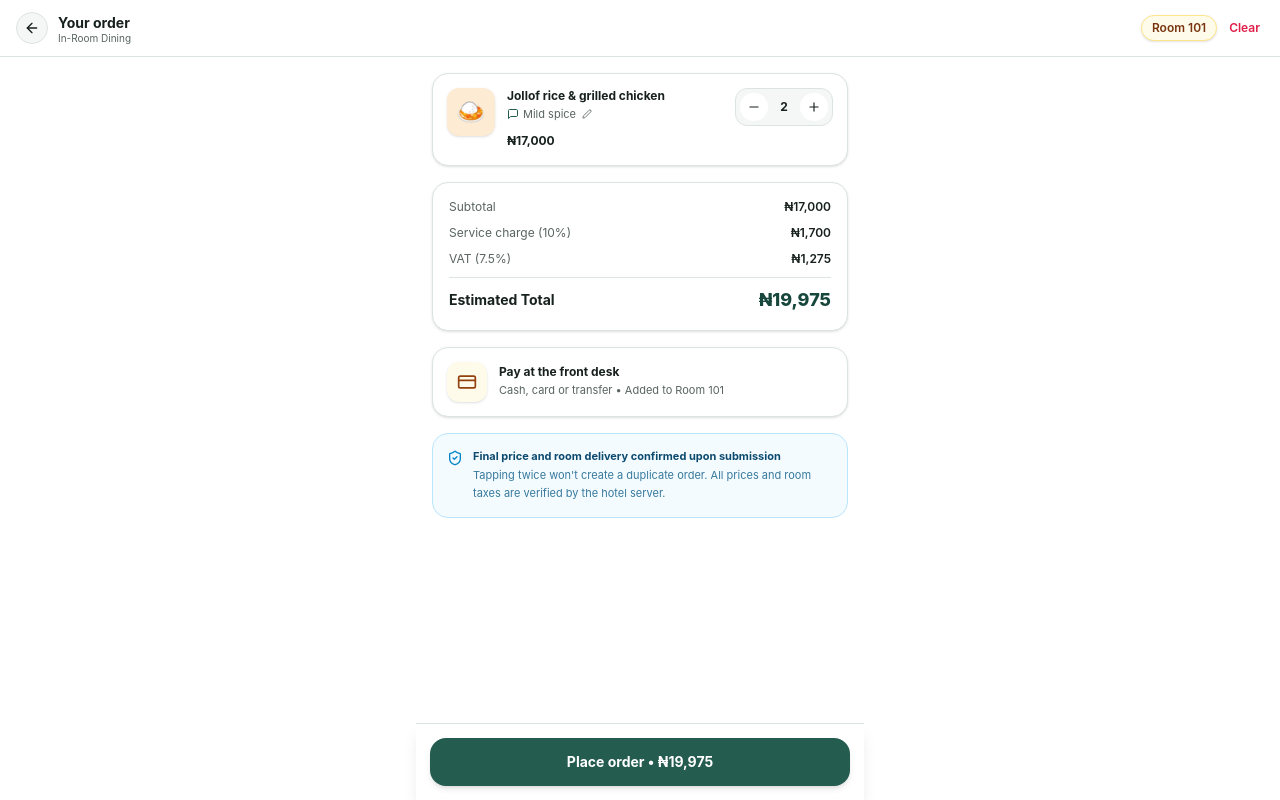
Test case: CartPage Component Suite › retains cart line items intact and displays user-friendly error toast when order placement fails
What coordinates should you click on to do the following:
click the button with test id "place-order-checkout-button"
I would click on:
 (640, 762)
Its box is [430,738,850,786].
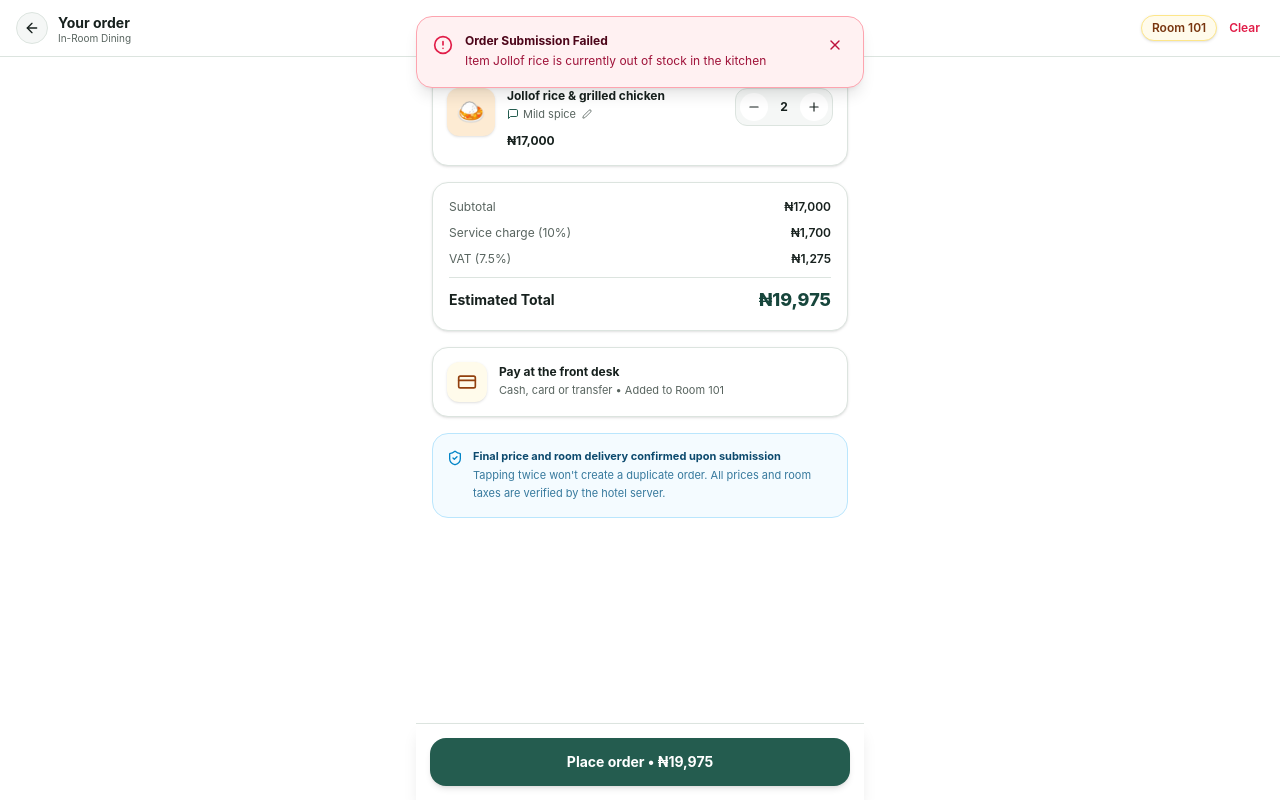
Check: the message with test id "order-submission-error-toast" is shown, box [416,16,864,88]
Check: the text "Item Jollof rice is currently out of stock in the kitchen" is shown, box [465,51,811,70]
What coordinates should you click on to do the following:
click the button named "dismiss error notification"
I would click on:
 (835, 45)
Its box is [823,33,847,57].
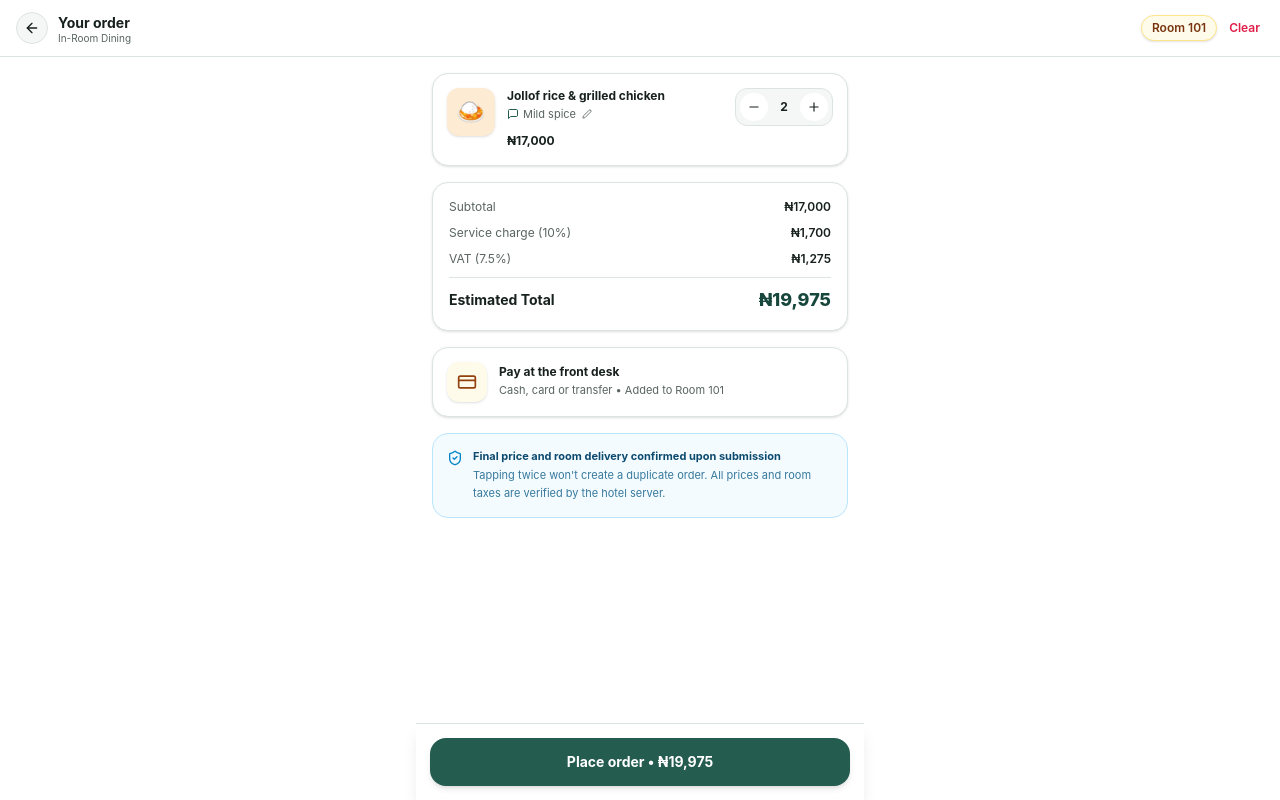
Check: the message with test id "order-submission-error-toast" is gone
